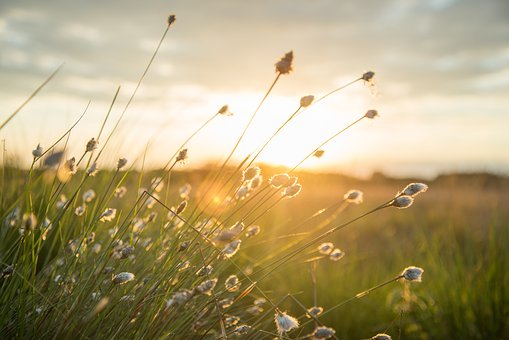field: (53, 140, 509, 339)
flower: (9, 14, 417, 340)
